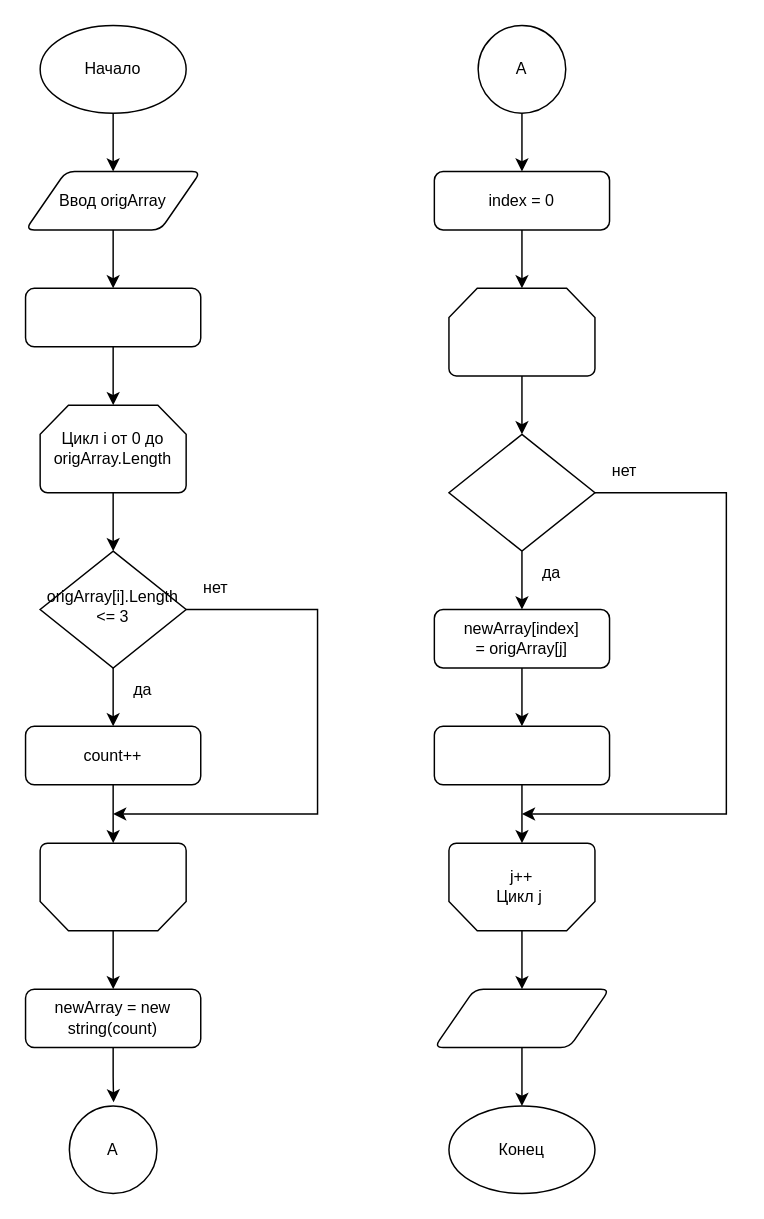
This 764x1219 diagram has some shape labels left out. Here are the shapes that lost their labels. From the top down, the box of each, then its label:
(24, 287, 201, 347): count = 0
(447, 287, 595, 376): Цикл j от 0 до origArray.Length
(447, 433, 595, 551): origArray[j].Length <= 3
(433, 725, 610, 785): index++
(39, 842, 186, 931): i++ Цикл i
(433, 988, 610, 1048): Вывод newArray
